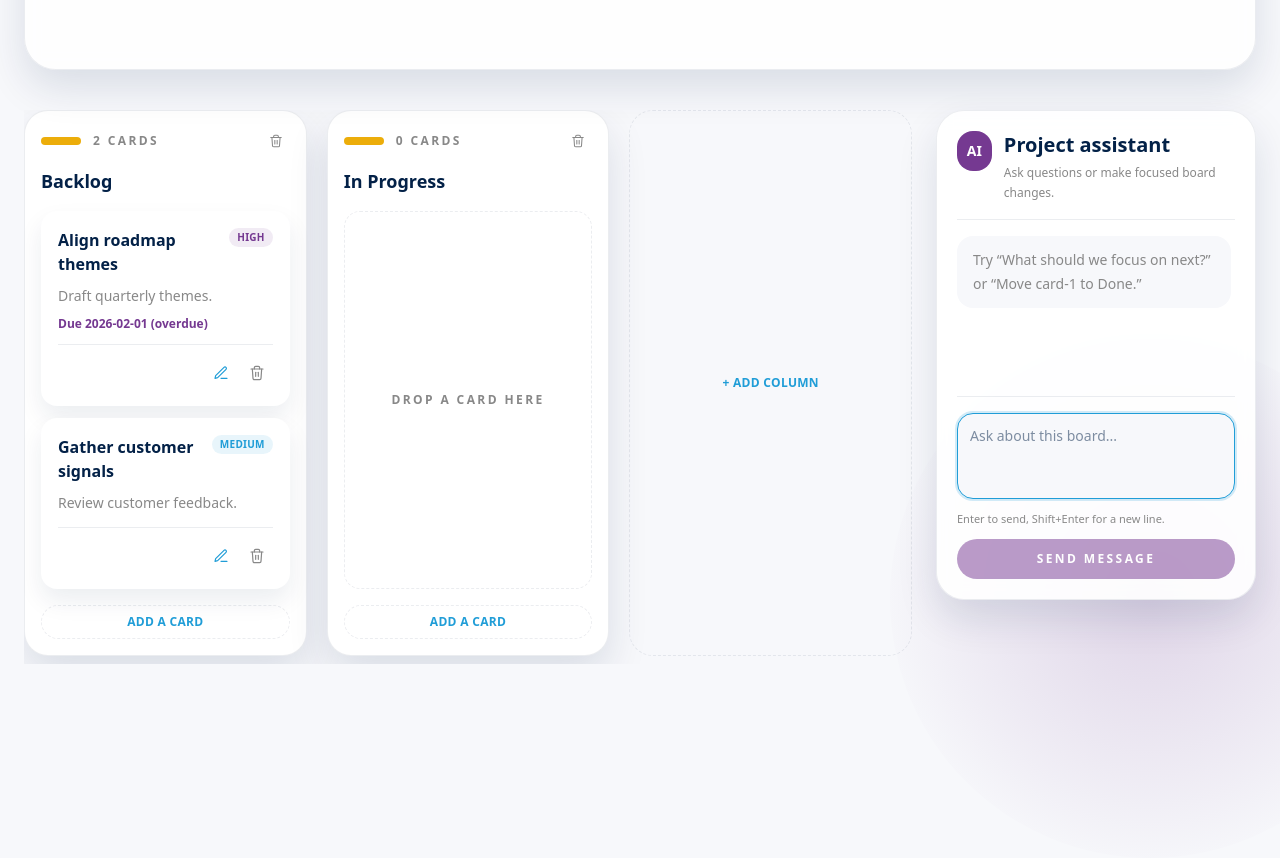
Test: KanbanBoard › adds a card with a priority and due date, then removes it
(page scrolled)
Click the 1st button "Add a card" at (165, 622), box [41,605,290,639]
(page scrolled)
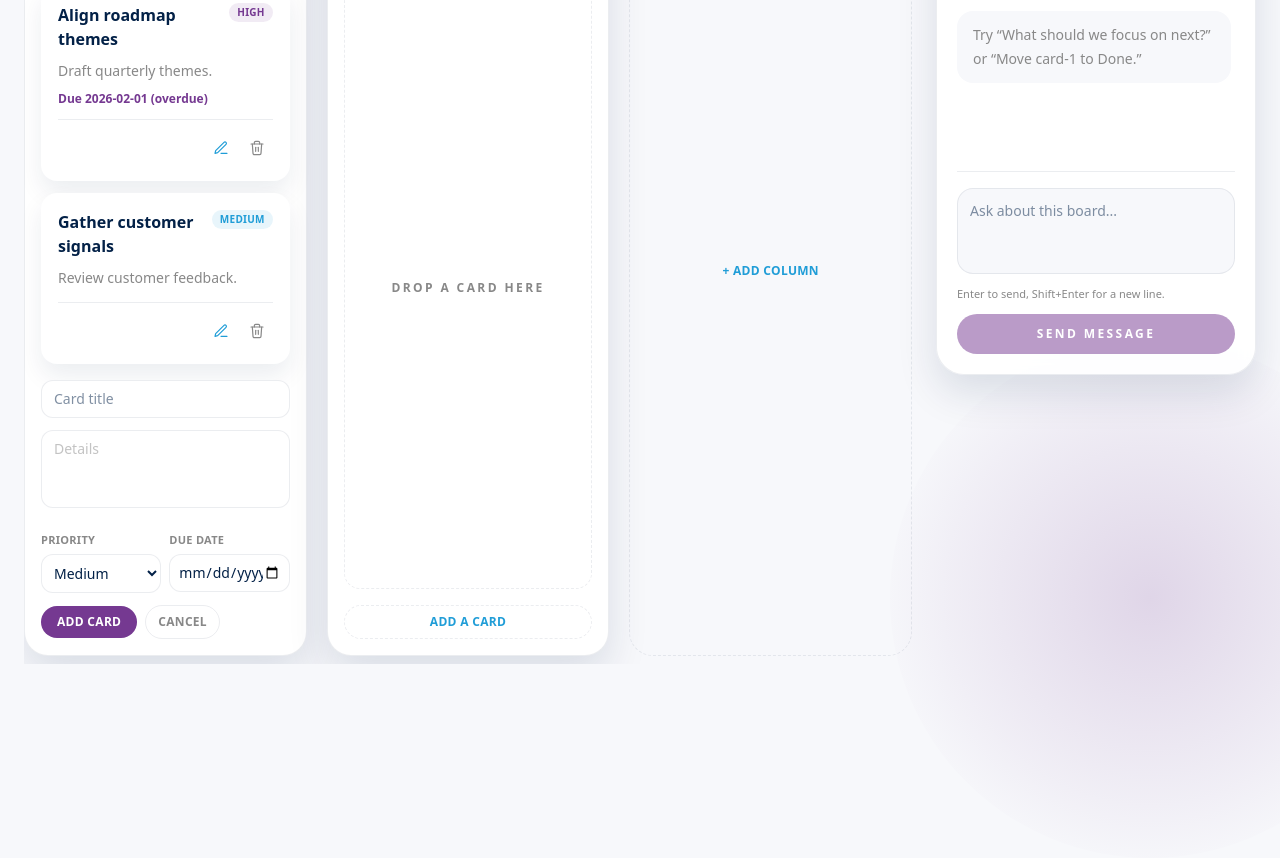
Type "New card" into the field with placeholder "Card title" at (165, 399), box [41,380,290,418]
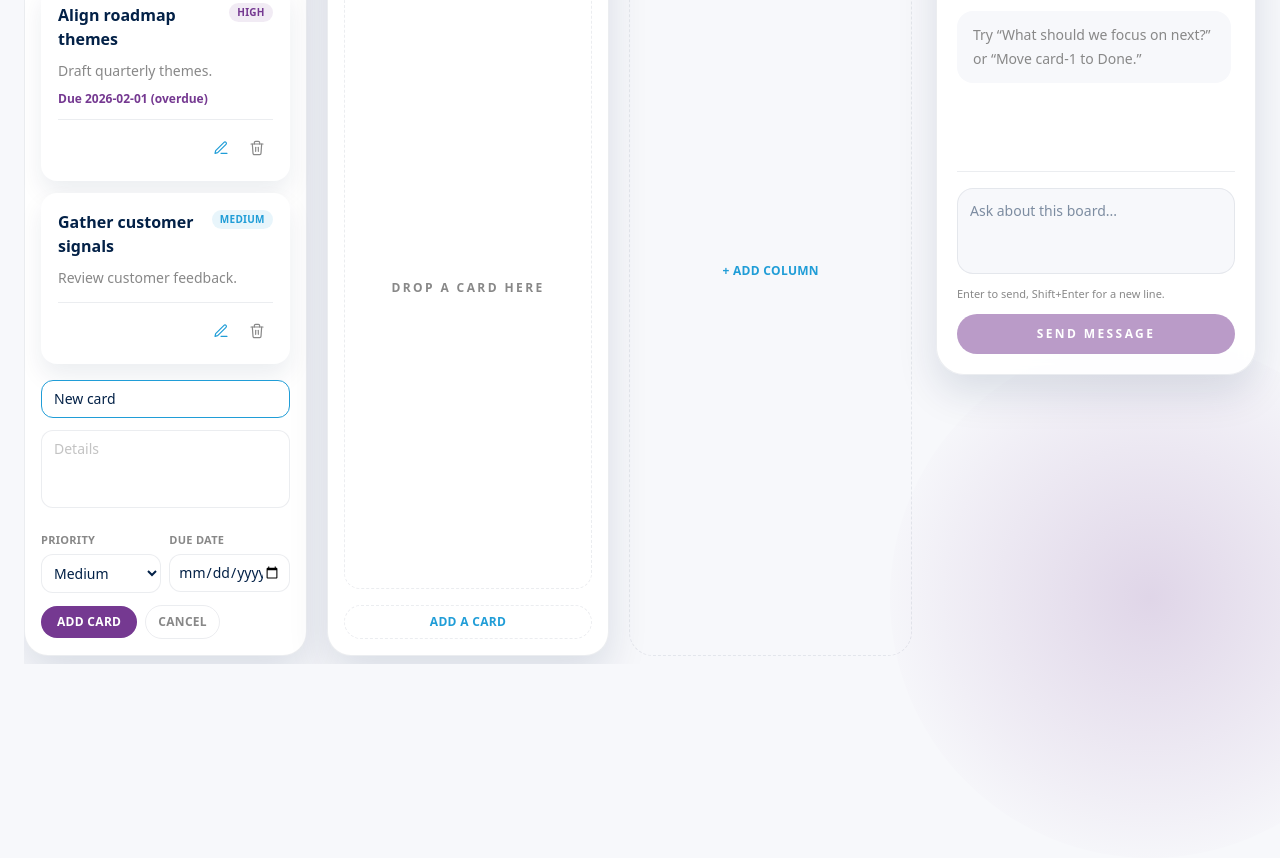
Type "Notes" into the text box with placeholder "Details" at (165, 469), box [41,430,290,508]
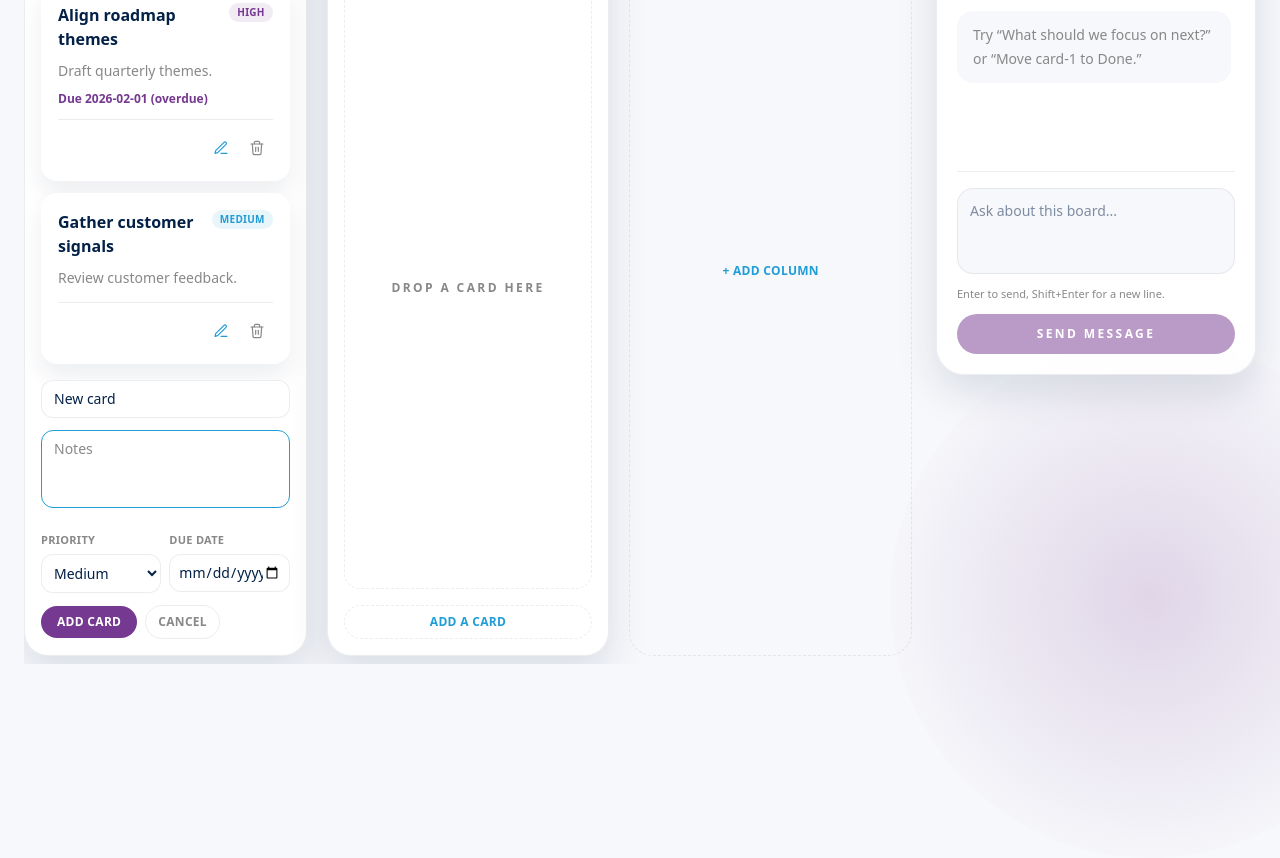
Select "Low" in the dropdown labelled "Priority" at (101, 574), box [41,554,161,593]
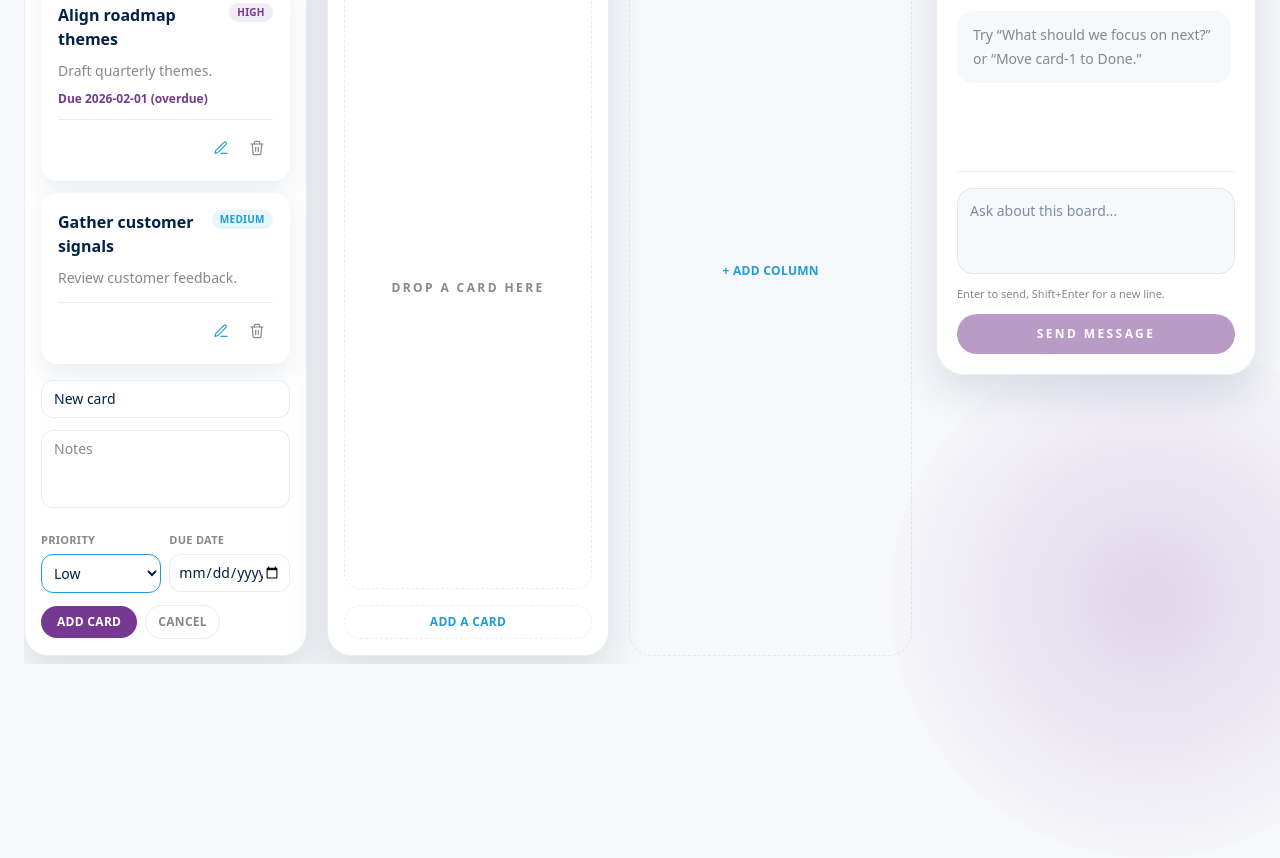
Click the button "Add card" at (89, 622), box [41,606,137,638]
(page scrolled)
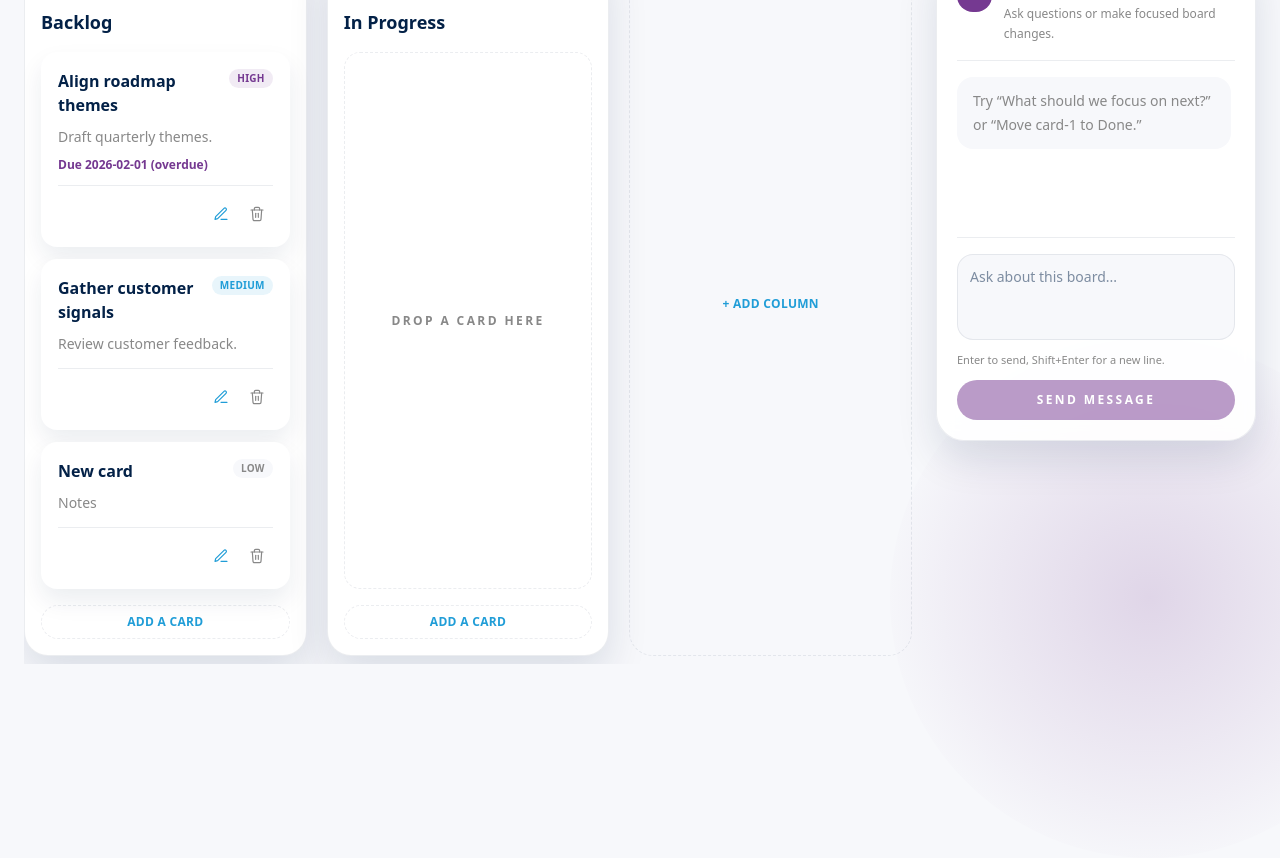
Now the heading "New card" is shown, box [58,459,133,483]
Click the button named "delete new card" at (257, 556), box [241,540,273,572]
(page scrolled)
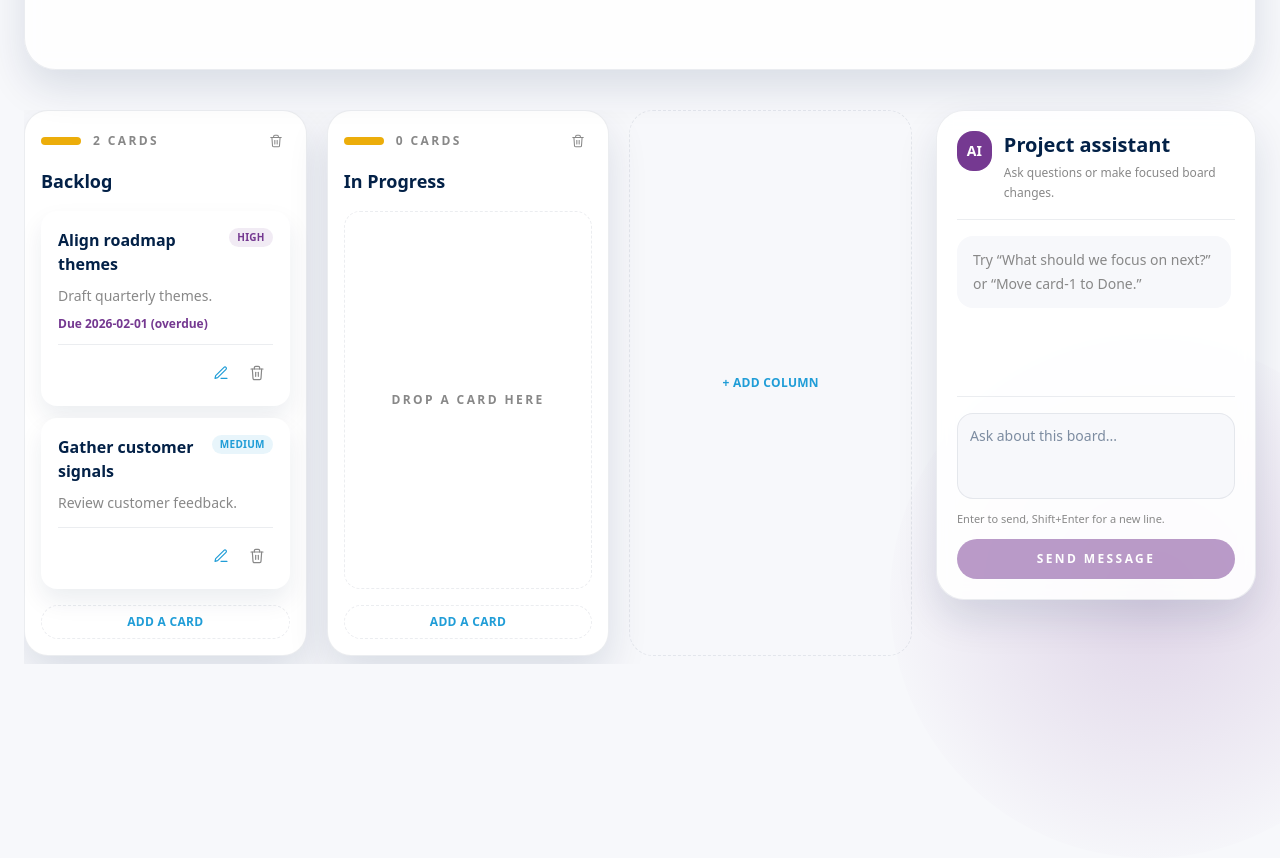
Now the button "New card" is gone
